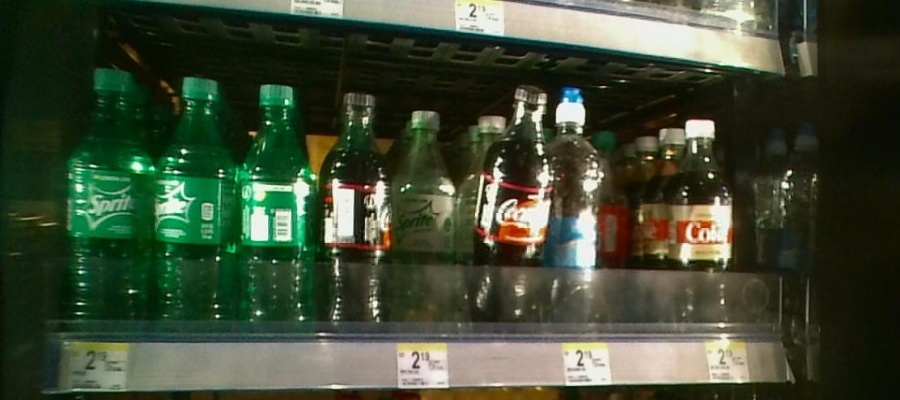bottle: (61, 65, 155, 333), (233, 73, 319, 338), (155, 69, 233, 338), (474, 74, 553, 325), (321, 76, 391, 344), (391, 94, 461, 340), (669, 116, 734, 337), (553, 73, 604, 340)
